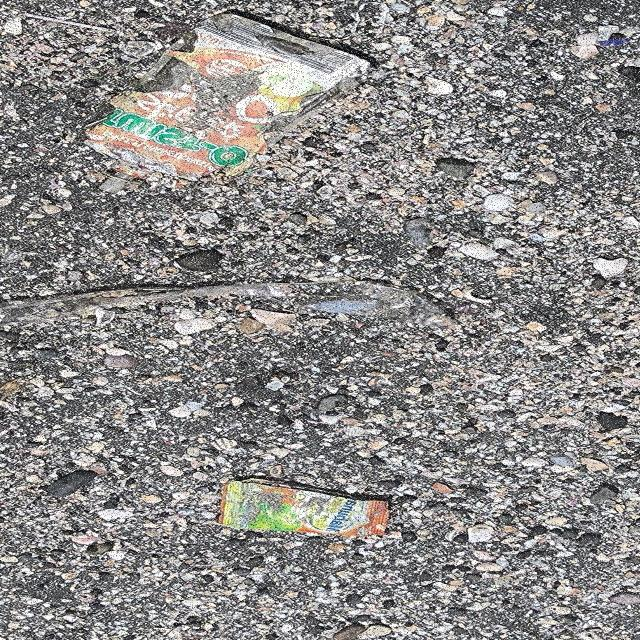plastic_waste: (89, 14, 371, 194), (217, 479, 395, 537)
